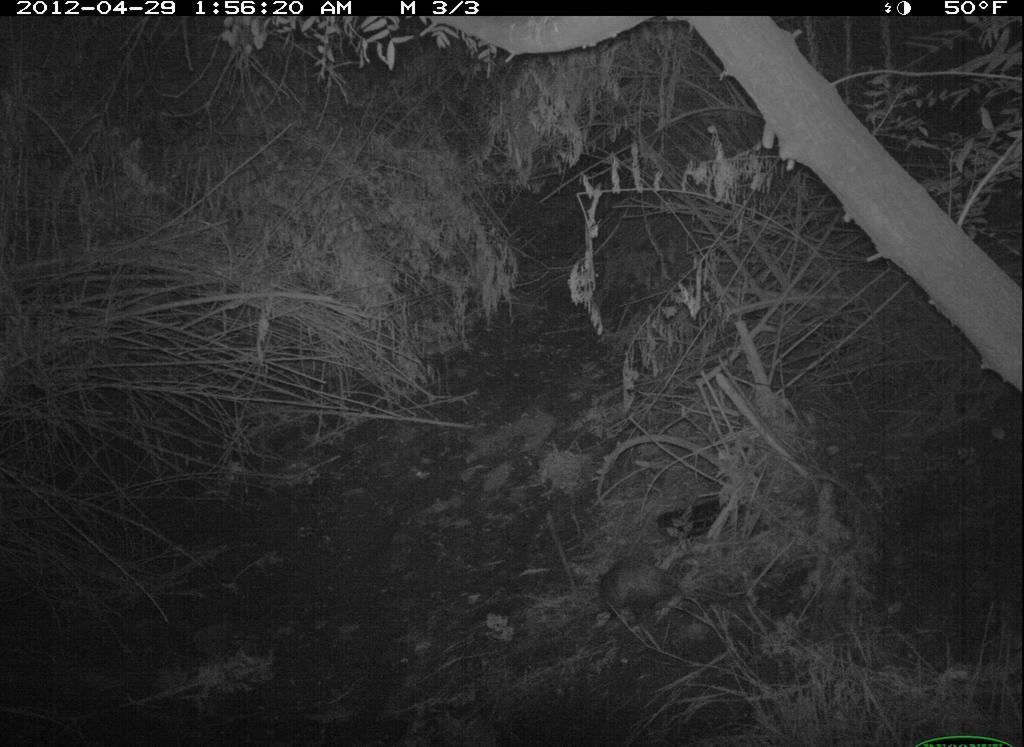opossum: (571, 537, 705, 647)
